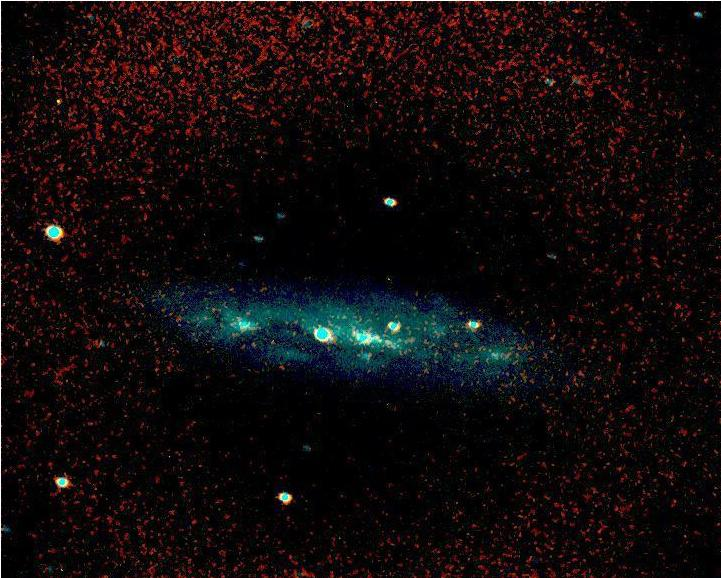star: (351, 327, 381, 357)
